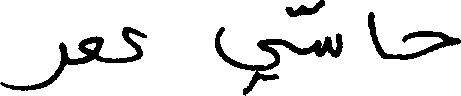X: (214, 22, 278, 95), (0, 37, 66, 95), (403, 26, 460, 64), (315, 0, 341, 62), (77, 31, 103, 69), (367, 7, 384, 63), (123, 22, 142, 67)
